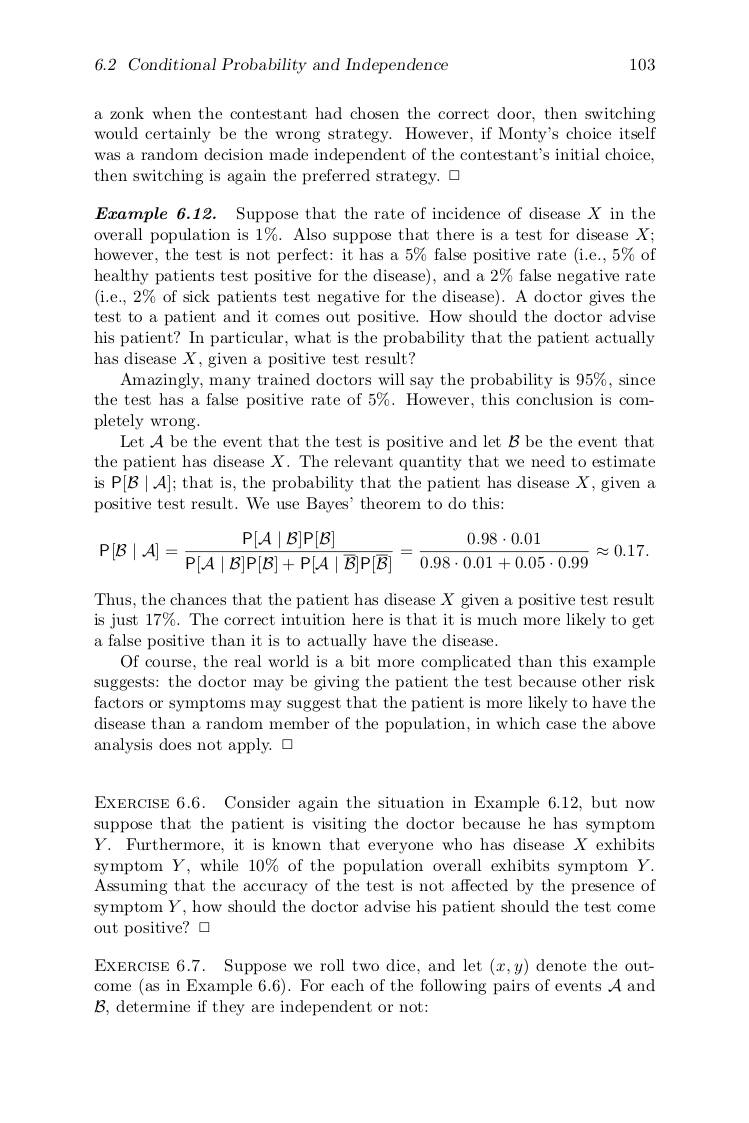formula: (100, 530, 648, 574)
